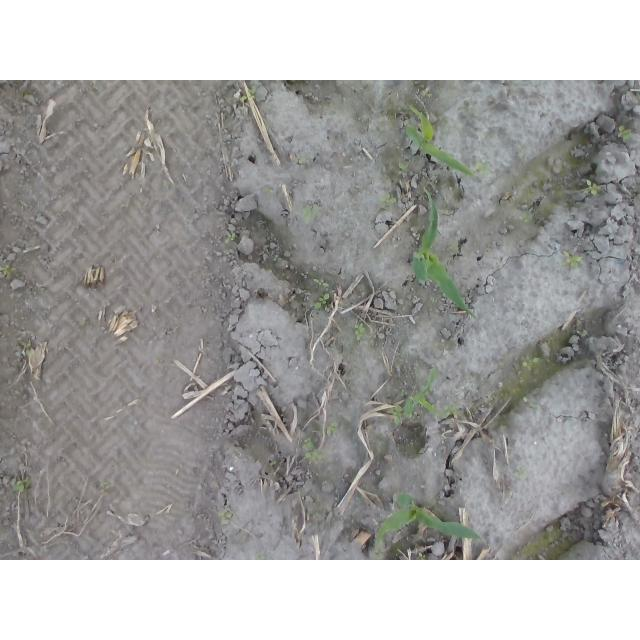Maize: (410, 189, 479, 320), (374, 492, 483, 549), (405, 104, 472, 176), (403, 368, 438, 421)
Weeds: (303, 439, 322, 462), (583, 177, 602, 195), (522, 354, 543, 370), (386, 406, 402, 426), (562, 252, 583, 267), (379, 192, 397, 207), (315, 293, 330, 310), (241, 87, 258, 102), (354, 323, 366, 341), (16, 480, 32, 493), (1, 266, 16, 279), (477, 163, 491, 176), (442, 404, 459, 414), (303, 207, 313, 224), (619, 128, 631, 141), (398, 160, 408, 175), (313, 277, 327, 287), (519, 213, 530, 223), (328, 424, 338, 433), (228, 233, 236, 241), (400, 389, 408, 397)
